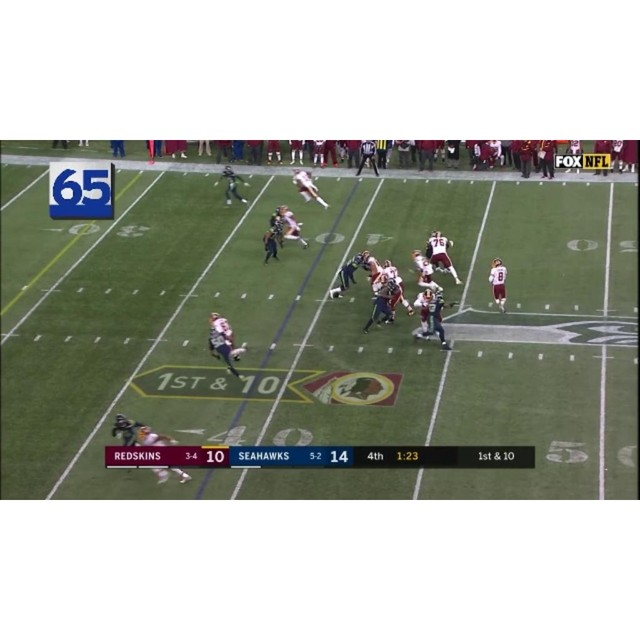american-football-player: (133, 421, 192, 485), (207, 325, 247, 380), (328, 251, 368, 300), (426, 230, 461, 284), (362, 278, 395, 335), (291, 168, 331, 210), (429, 290, 453, 350), (216, 165, 249, 206), (280, 205, 309, 251), (411, 287, 435, 341), (411, 249, 441, 291), (488, 258, 509, 315), (112, 413, 142, 447), (362, 250, 385, 292), (262, 223, 284, 265)
referee: (355, 140, 381, 178)
